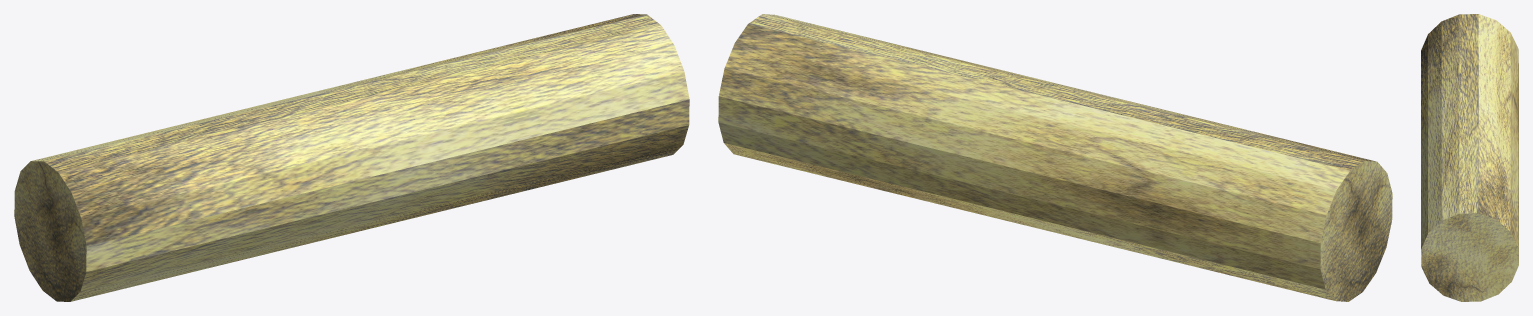
File: joint.dae
3 renders of one model, left to right at view 1: azimuth 30°, elevation 25°; view 2: azimuth 150°, elevation 25°; view 3: azimuth 270°, elevation 25°, orthographic. The views are drawn at different scales.
Visible parts, largest first — view 1: Coxa_Joint_Right; view 2: Coxa_Joint_Right; view 3: Coxa_Joint_Right.
Part boxes in pixels (bbox=[...]): Coxa_Joint_Right: bbox=[14, 14, 689, 301]; Coxa_Joint_Right: bbox=[718, 14, 1392, 301]; Coxa_Joint_Right: bbox=[1421, 14, 1518, 301].
Size of the model in its own units: 0.19 by 0.0394 by 0.0394.
1 material, 1 textured.
